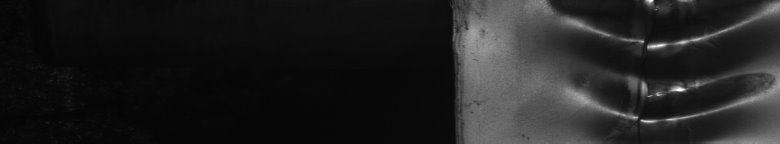ke: (552, 4, 776, 128)
